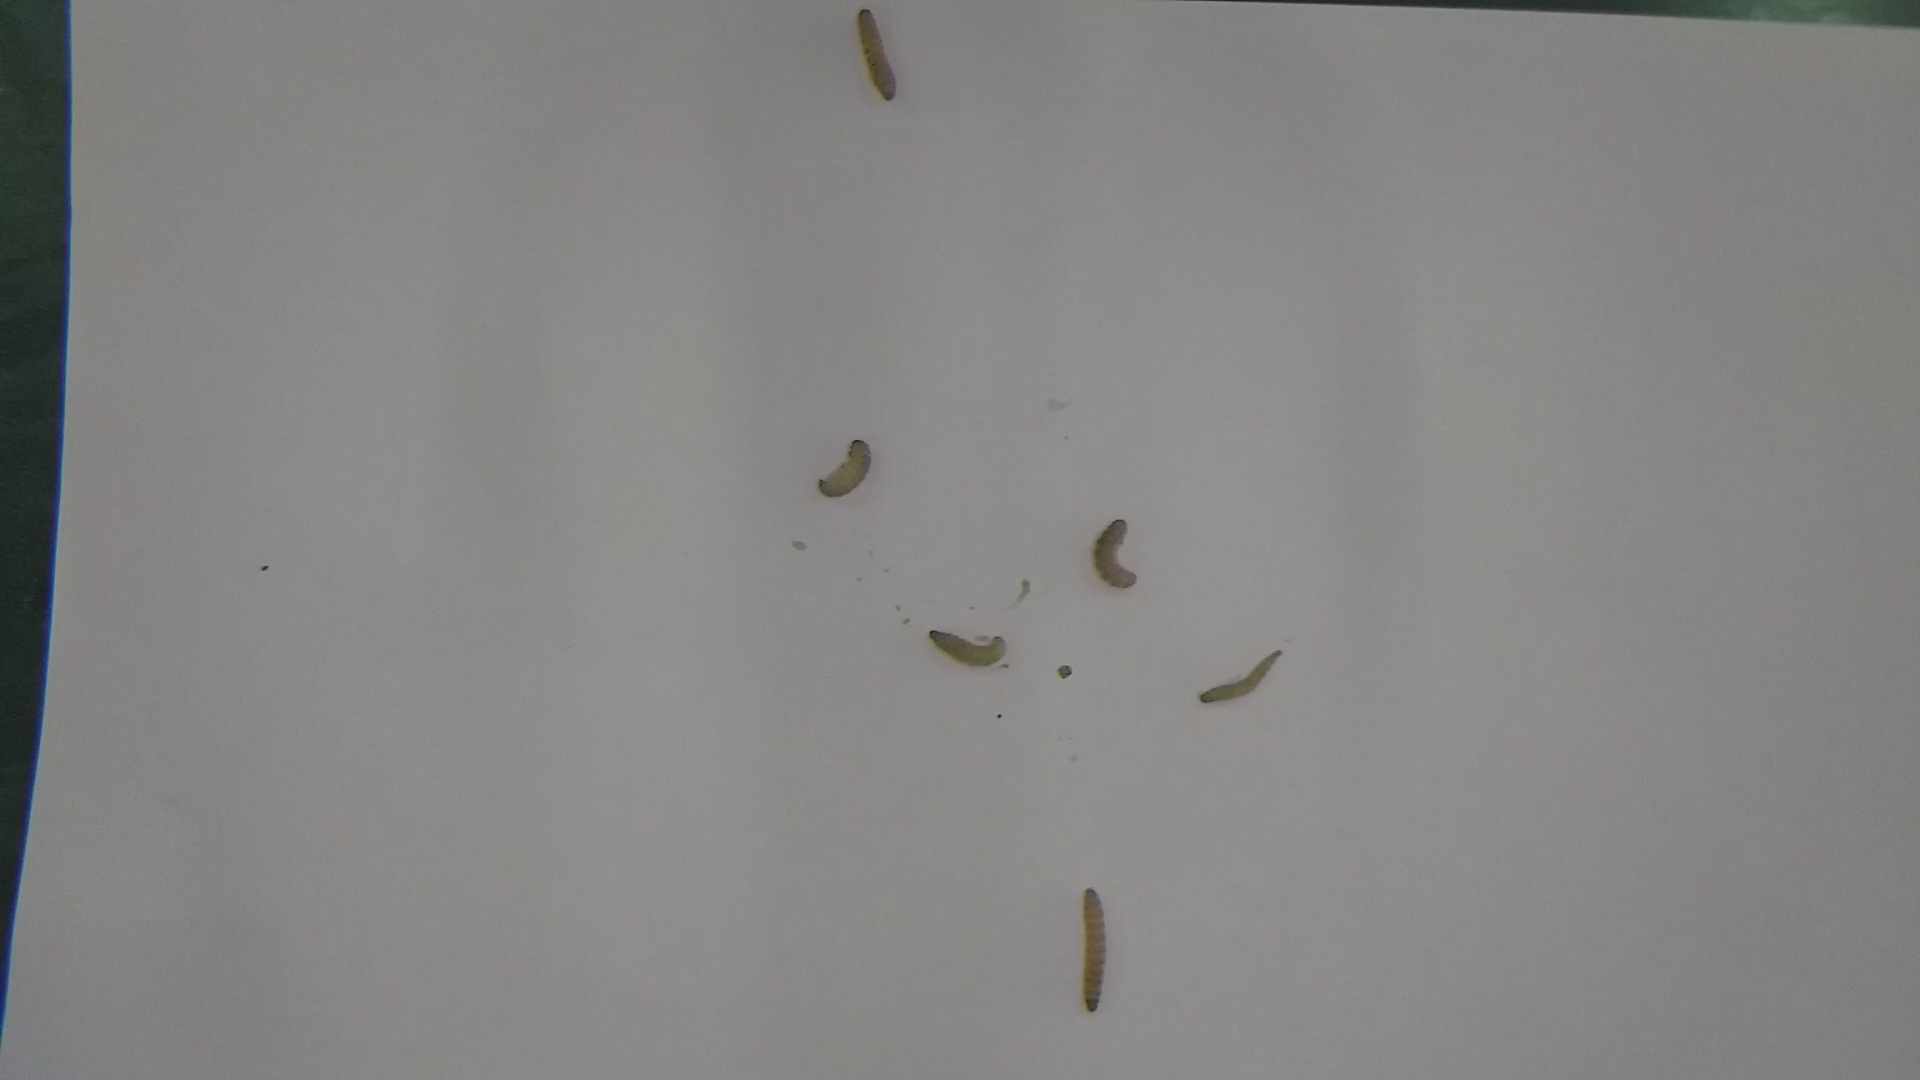efsb: (1069, 880, 1116, 1033), (1193, 644, 1298, 709), (848, 5, 906, 105), (1083, 512, 1145, 604), (814, 434, 880, 505), (924, 624, 1011, 676)
